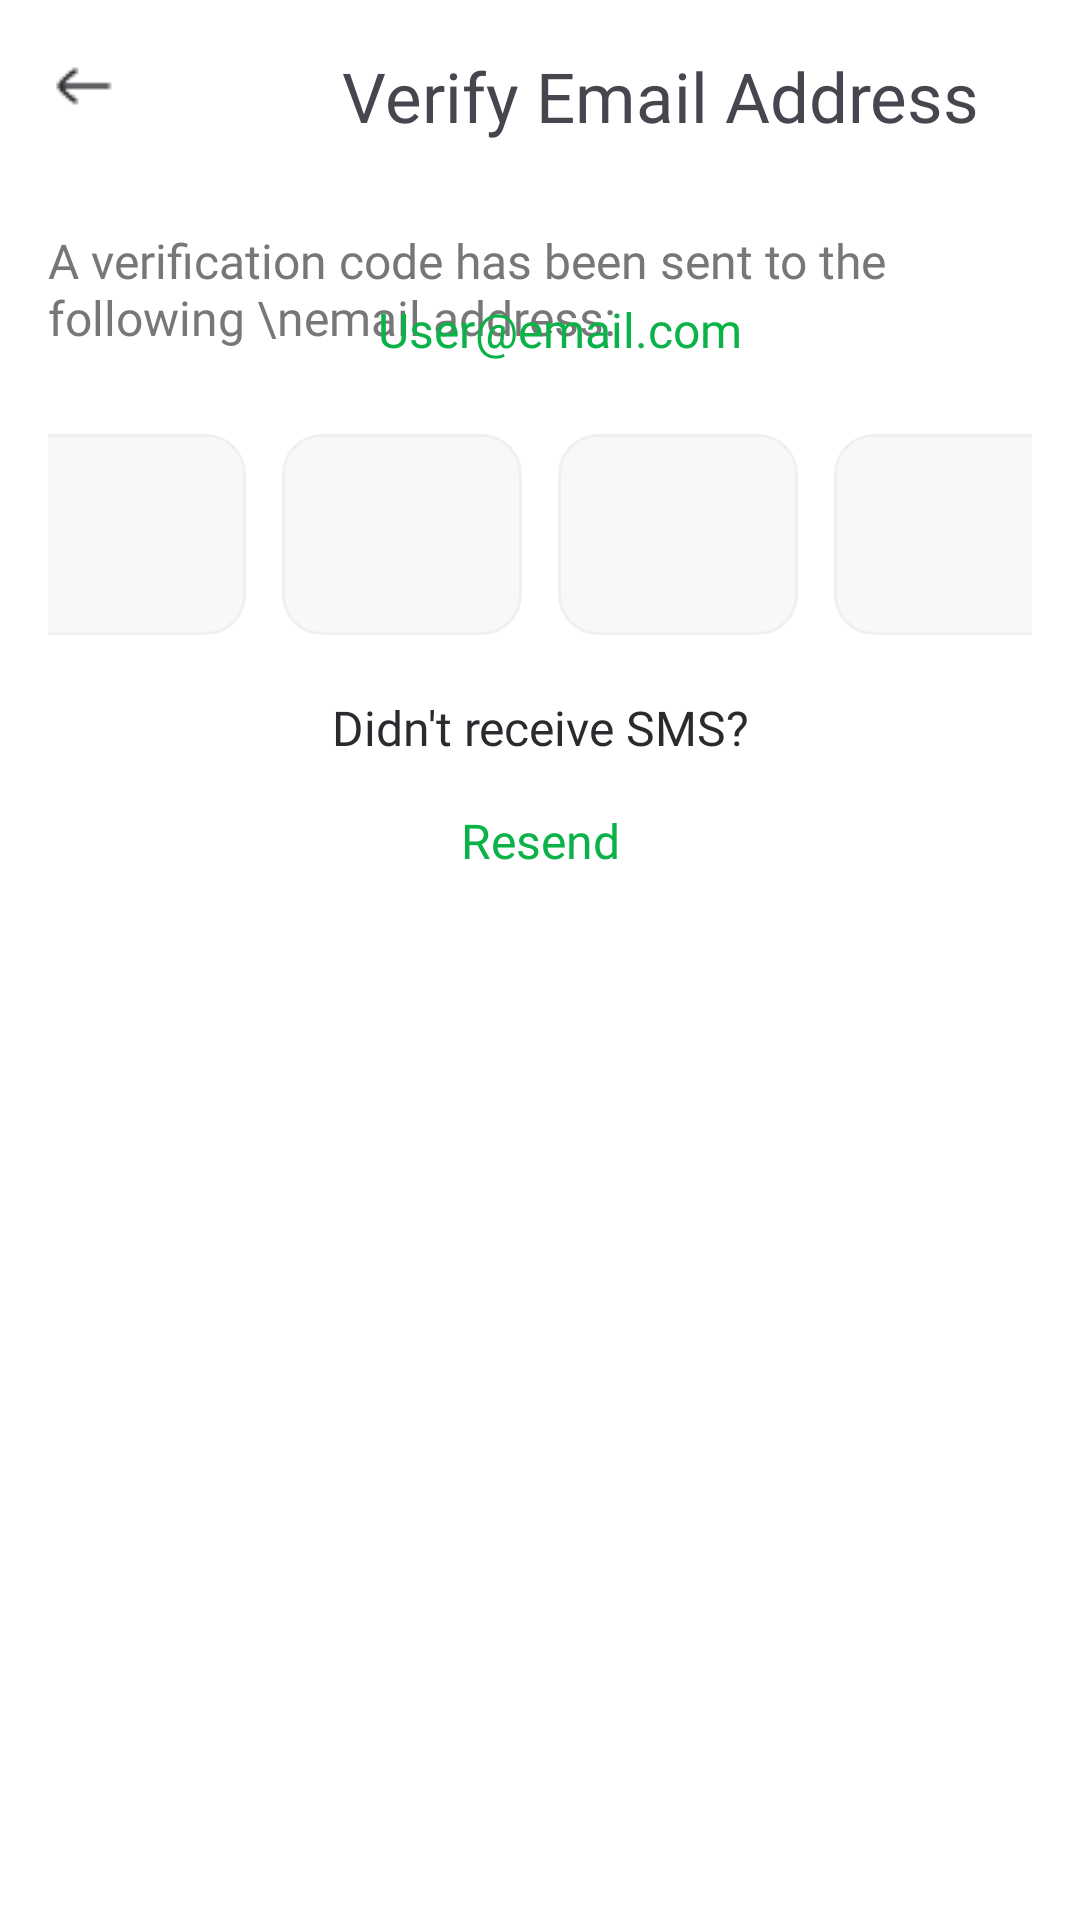

Named icons in this screenshot (1080×1920) and their bounding boxes, (x1, y1, x2, y2):
arrow left: (56, 67, 112, 105)
